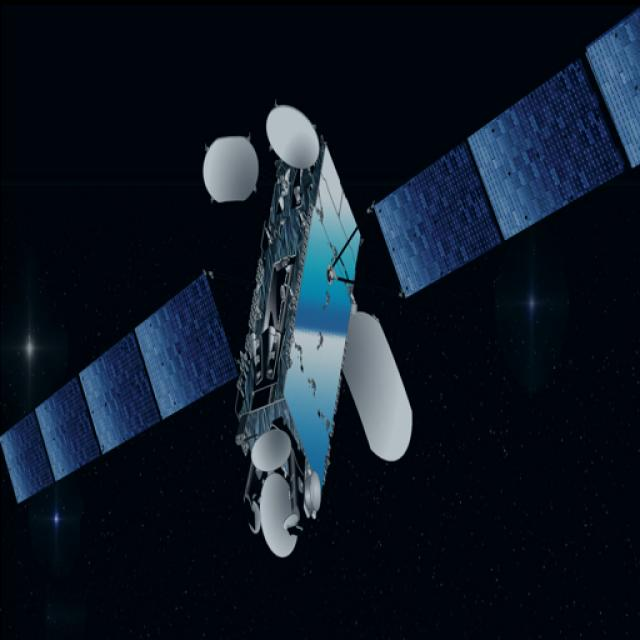medium_debris: (0, 5, 640, 568)
